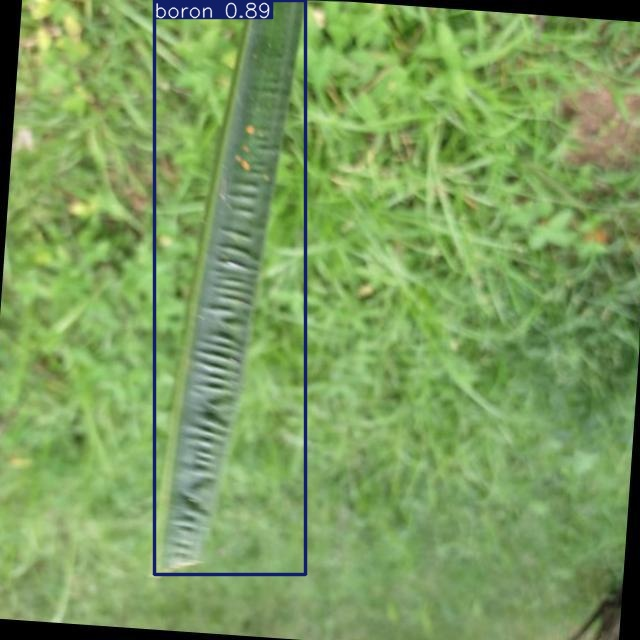nitrogen: (154, 0, 306, 575)
